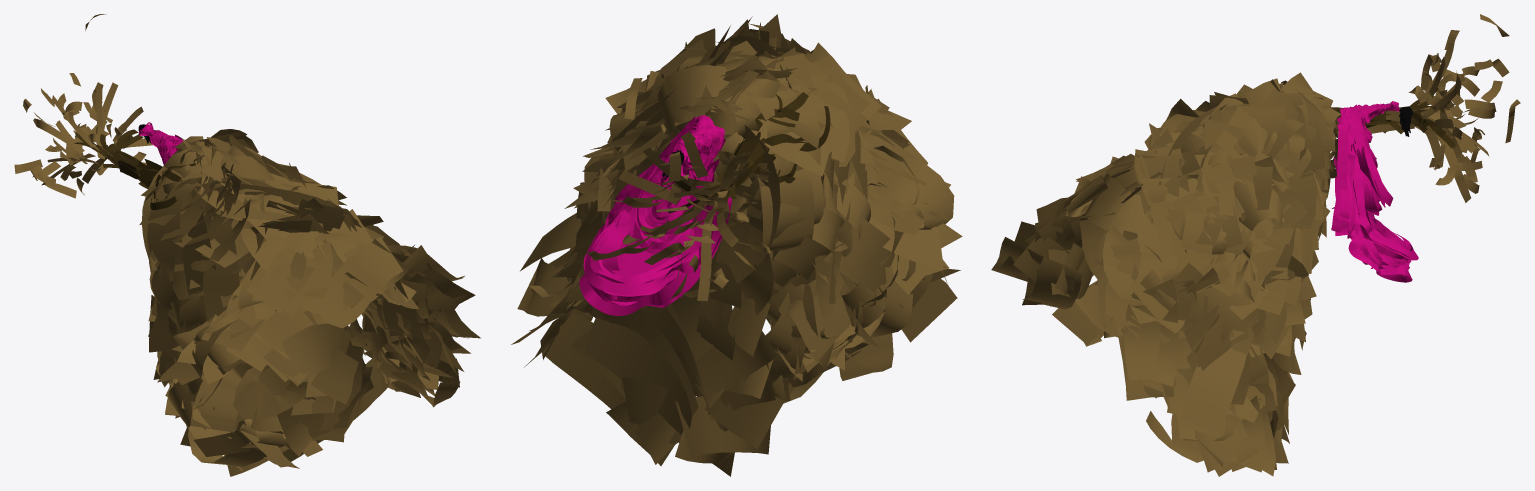
3 renders of one model, left to right at view 1: azimuth 30°, elevation 25°; view 2: azimuth 150°, elevation 25°; view 3: azimuth 270°, elevation 25°, orthographic. The views are drawn at different scales.
Visible parts, largest first — view 1: Ink_geo_Ink_0.001; view 2: Ink_geo_Ink_0.001; view 3: Ink_geo_Ink_0.001.
Part boxes in pixels (<box>): Ink_geo_Ink_0.001: <box>14,14,480,476</box>; Ink_geo_Ink_0.001: <box>511,14,962,476</box>; Ink_geo_Ink_0.001: <box>991,14,1520,476</box>.
Bounding box in the file's own units: 1.58 × 1.9 × 2.2.
